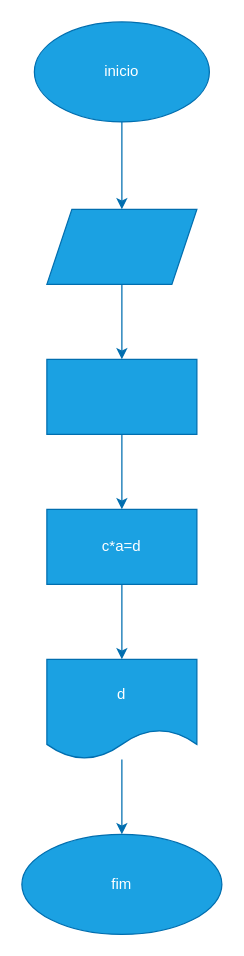
The diagram is 244 pixels wide and 956 high, and some of its shapes have lost their labels. The shapes that lost their labels are listed below. From the top down, each one's centre as x and y in pixels, then its label:
the point at 121,246: a,b
the point at 121,396: a+b=c
